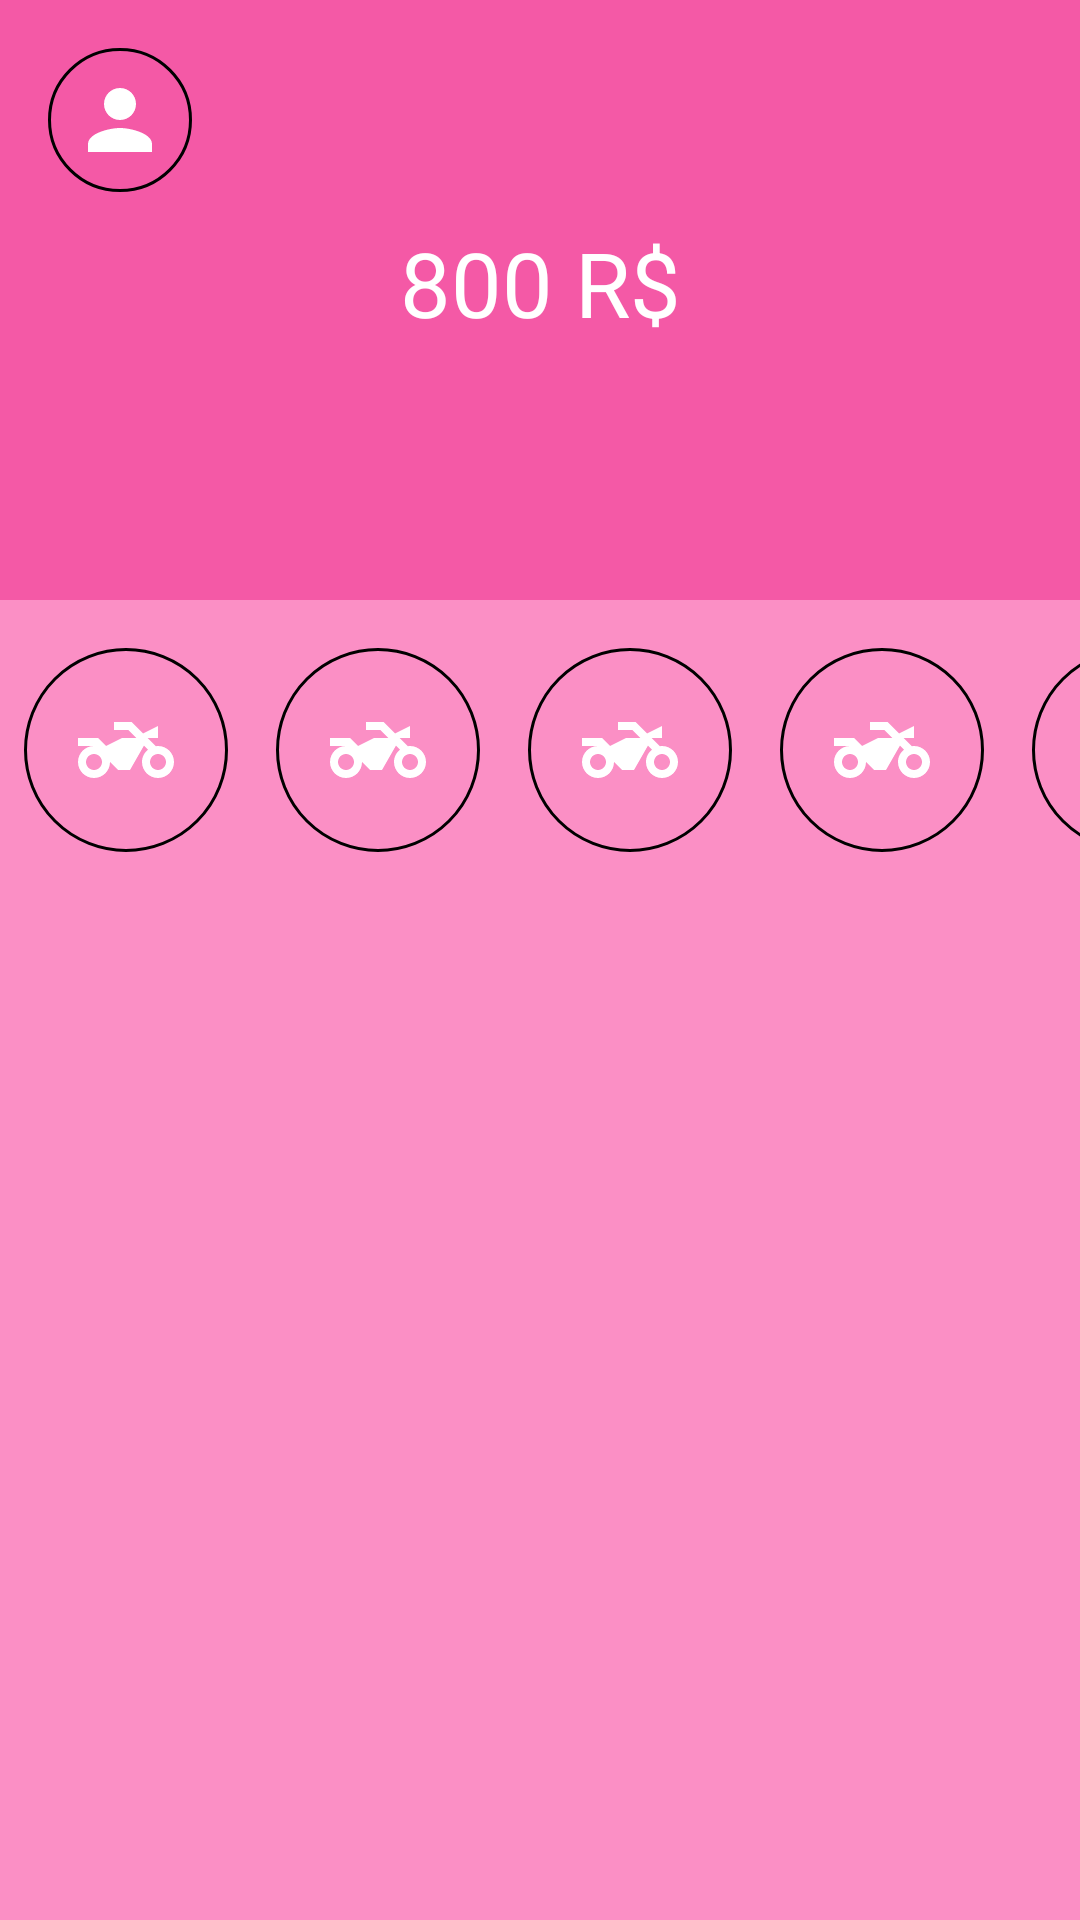

Icons on this 1080 × 1920 Android screen, each with its box as (x1, y1, x2, y2):
person: (48, 48, 192, 192)
